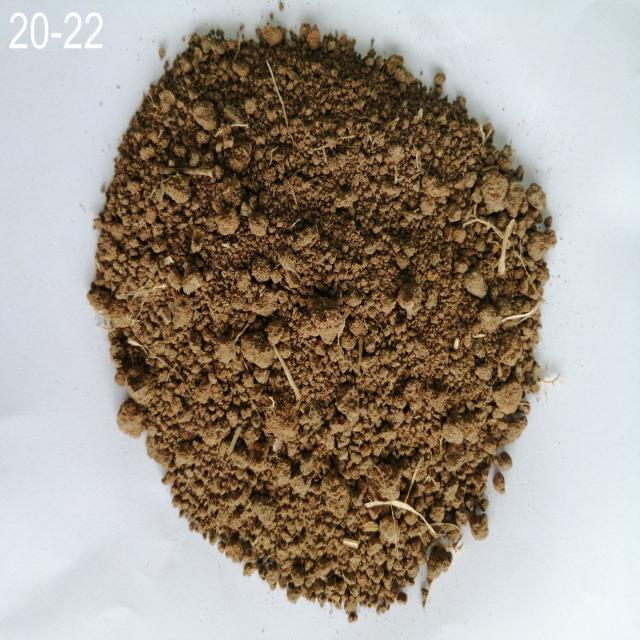soil: (188, 74, 457, 516)
